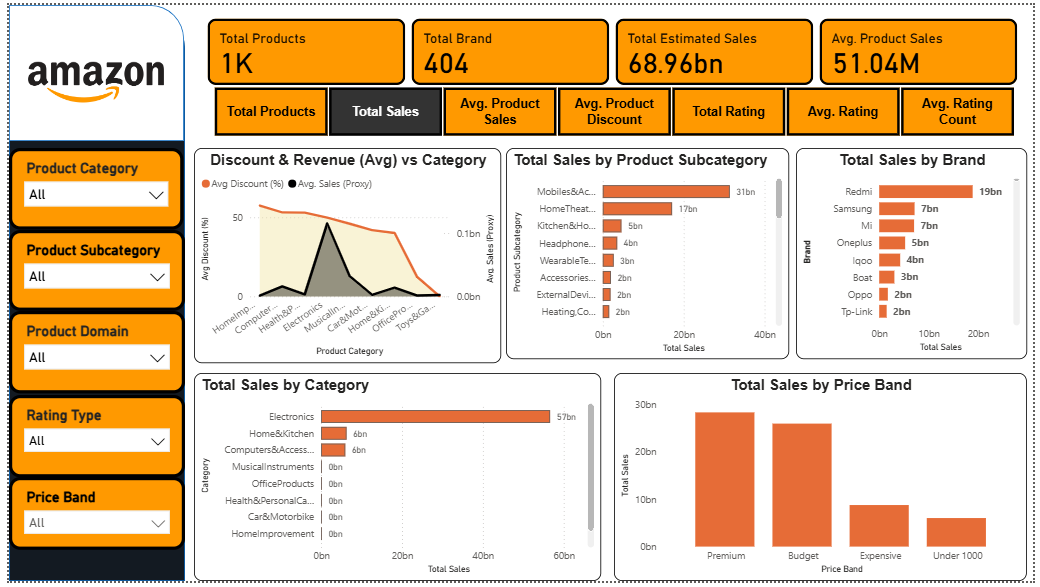

What the dashboard file says about the page in this screenshot:
{"tool":"powerbi","page":{"name":"Page 1","canvas":[1280,720],"ordinal":0},"visuals":[{"type":"shape","box":[0,0,220,720],"z":0},{"type":"slicer","fields":{"Values":["public amazon.Product Subcategory"]},"box":[0,281.4,220,101.4],"z":2000},{"type":"shape","box":[0,0,218.8,170],"z":3000},{"type":"slicer","fields":{"Values":["public amazon.Product Domain"]},"box":[0,382.9,220,102.9],"z":4000},{"type":"slicer","fields":{"Values":["Option.Parameter"]},"box":[231.2,96.2,1048.8,73.8],"z":5000},{"type":"cardVisual","fields":{"Data":["public amazon.Total Products","public amazon.Total Brand","public amazon.Total Estimated Sales","public amazon.Avg. Product Sales"]},"box":[231.2,0,1048.8,117.5],"z":6000},{"type":"slicer","fields":{"Values":["public amazon.Product Category"]},"box":[0,178.6,218.3,102.5],"z":7000,"group":"g1"},{"type":"clusteredBarChart","fields":{"Y":["public amazon.Total Estimated Sales"],"Category":["public amazon.Brand"]},"box":[983.8,178.8,288.8,263.8],"z":7000},{"type":"barChart","fields":{"Y":["public amazon.Total Estimated Sales"],"Category":["public amazon.Product Category"]},"box":[230.9,460,509.1,260],"z":8000},{"type":"slicer","fields":{"Values":["public amazon.Rating Type"]},"box":[0,487.2,219.9,102.9],"z":8000,"group":"g1"},{"type":"image","box":[23.9,35.3,169.7,123],"z":9000},{"type":"lineChart","title":"Discount & Revenue (Avg) vs Category","fields":{"Category":["public amazon.Product Category"],"Y":["Avg(public amazon.Discount %)"],"Y2":["Avg(public amazon.Sales Proxy)"]},"box":[231.4,178.6,384.3,268.6],"z":10000},{"type":"clusteredBarChart","fields":{"Y":["public amazon.Total Estimated Sales"],"Category":["public amazon.Product Subcategory"]},"box":[621.4,178.6,354.3,264.3],"z":11000},{"type":"group","id":"g1","title":"Group 1","box":[0,178.6,220,411.4],"z":12000},{"type":"clusteredColumnChart","fields":{"Y":["public amazon.Total Estimated Sales"],"Category":["public amazon.Price Band"]},"box":[755.7,460,515.7,260],"z":13000},{"type":"slicer","fields":{"Values":["public amazon.Price Band"]},"box":[0,590,220,91.4],"z":14000}]}

Visuals, with their boxes in screenshot pixels (x1, y1, x2, y2), scaled from the page's 1280x720 canvas onto the 1040x587 screenshot:
shape: 0 0 179 586
slicer - public amazon.Product Subcategory: 0 229 179 312
shape: 0 0 178 139
slicer - public amazon.Product Domain: 0 312 179 396
slicer - Option.Parameter: 188 78 1039 139
cardVisual - public amazon.Total Products x public amazon.Total Brand: 188 0 1039 96
slicer - public amazon.Product Category: 0 146 177 229
clusteredBarChart - public amazon.Total Estimated Sales x public amazon.Brand: 799 146 1034 361
barChart - public amazon.Total Estimated Sales x public amazon.Product Category: 188 375 601 586
slicer - public amazon.Rating Type: 0 397 179 481
image: 19 29 157 129
"Discount & Revenue (Avg) vs Category" lineChart: 188 146 500 365
clusteredBarChart - public amazon.Total Estimated Sales x public amazon.Product Subcategory: 505 146 793 361
"Group 1" group: 0 146 179 481
clusteredColumnChart - public amazon.Total Estimated Sales x public amazon.Price Band: 614 375 1033 586
slicer - public amazon.Price Band: 0 481 179 556
